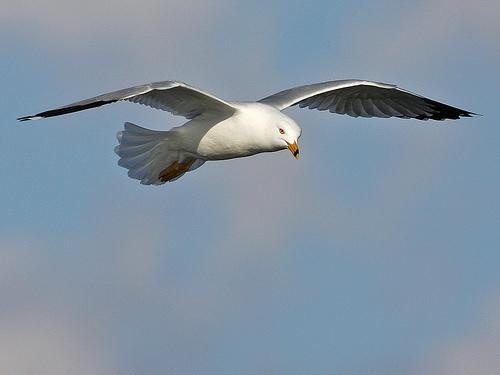bird: (10, 77, 481, 188)
